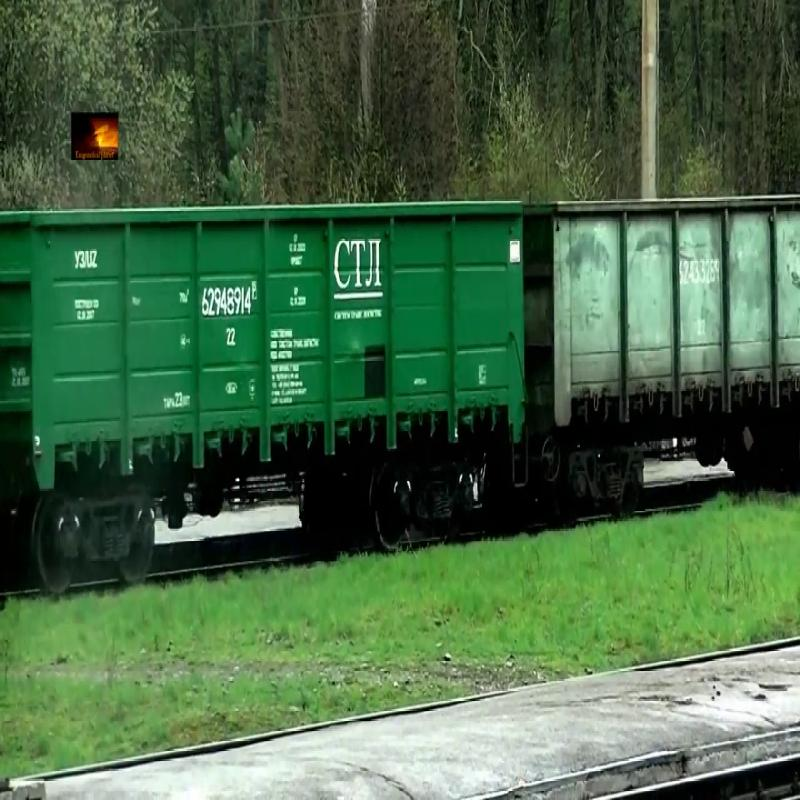train: (1, 196, 527, 487), (526, 193, 800, 457)
